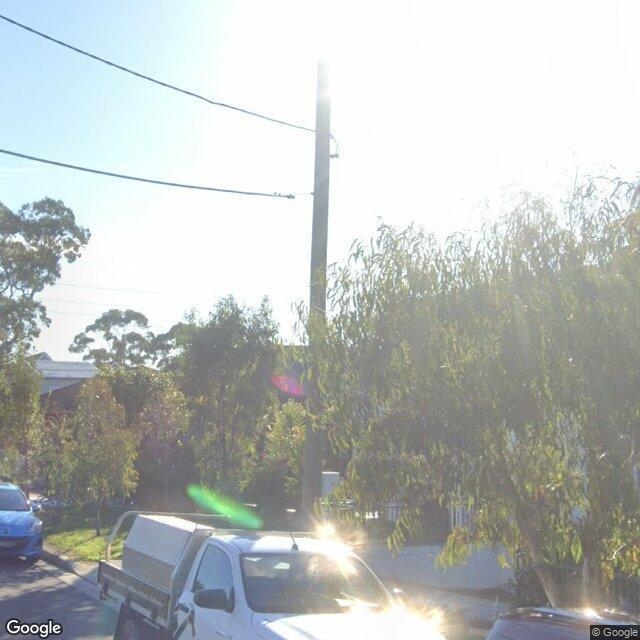timber-pole: (300, 55, 334, 532)
